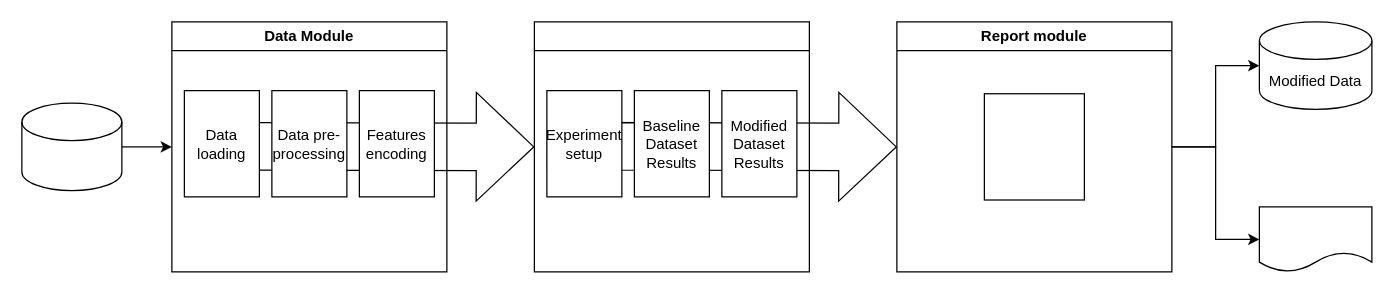
Some shapes in this 1394 by 294 pixel diagram are drawn without their labels. The box of each missing label's shape, as (x1, y1, x2, y2) in pixels:
Fairness Module: (533, 21, 809, 272)
Raw Data: (21, 102, 122, 191)
Report: (1258, 206, 1372, 272)
Suggestion Selection: (983, 92, 1084, 200)
